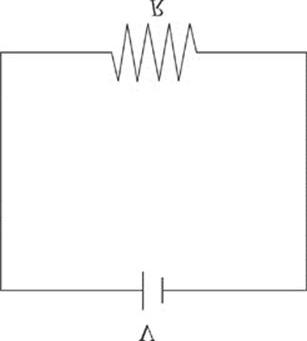resistor: (85, 17, 212, 95)
